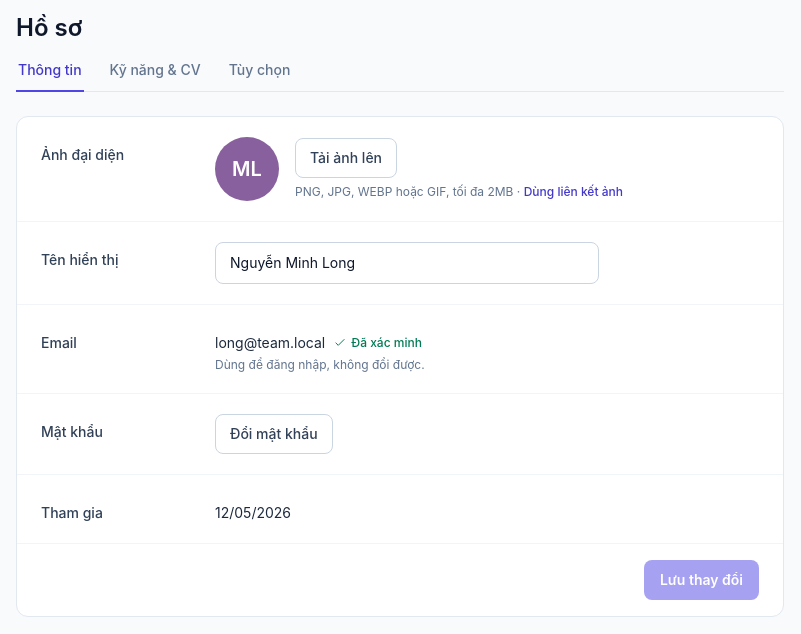
Test: ProfilePage › Hoàn tác trả lại tên cũ; lưu lỗi thì báo lỗi và giữ chữ đã sửa
Step 1. Type " X" into the field labelled "Tên hiển thị" → (407, 263), box [215, 242, 599, 284]
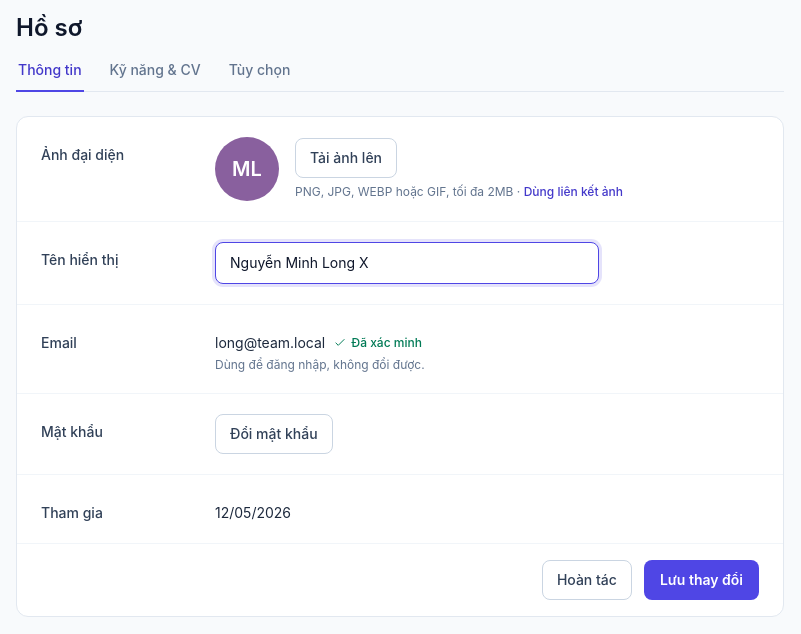
Step 2. Click the button "Hoàn tác" → click(587, 580), box [542, 560, 632, 600]
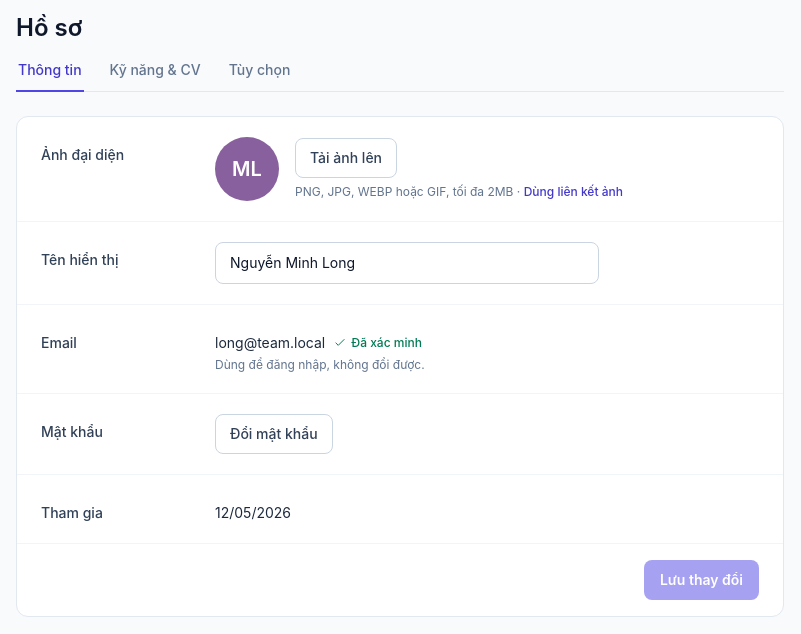
Expected: the field labelled "Tên hiển thị" holds "Nguyễn Minh Long"
Step 3. Type " Y" into the field labelled "Tên hiển thị" → (407, 263), box [215, 242, 599, 284]
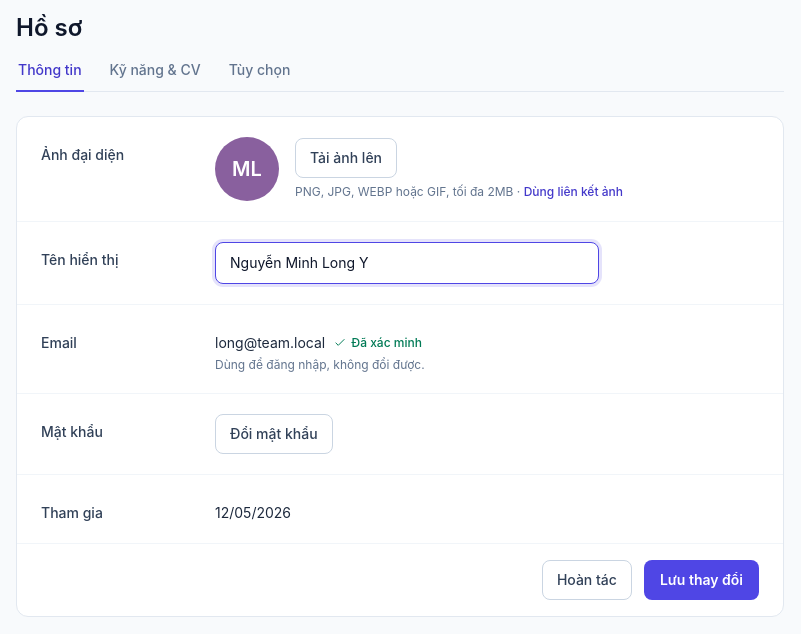
Step 4. Click the button "Lưu thay đổi" → click(701, 580), box [644, 560, 759, 600]
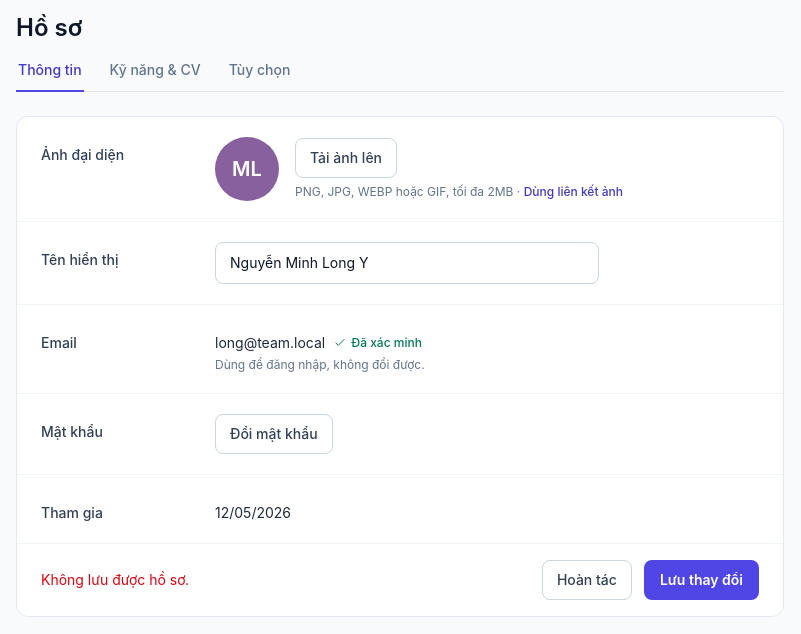
Expected: the field labelled "Tên hiển thị" holds "Nguyễn Minh Long Y", [215, 242, 599, 284]
Expected: the message "Không lưu được hồ sơ." is shown, [41, 570, 189, 590]
